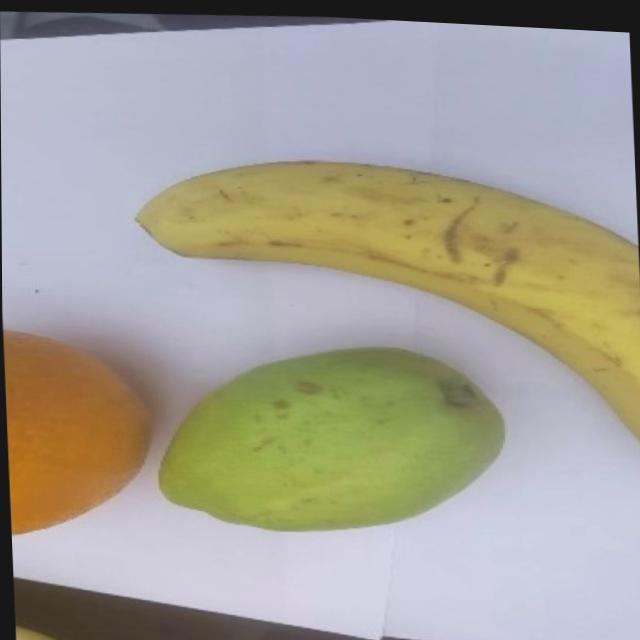Banana: (126, 132, 640, 456)
Orange: (2, 315, 158, 542)
